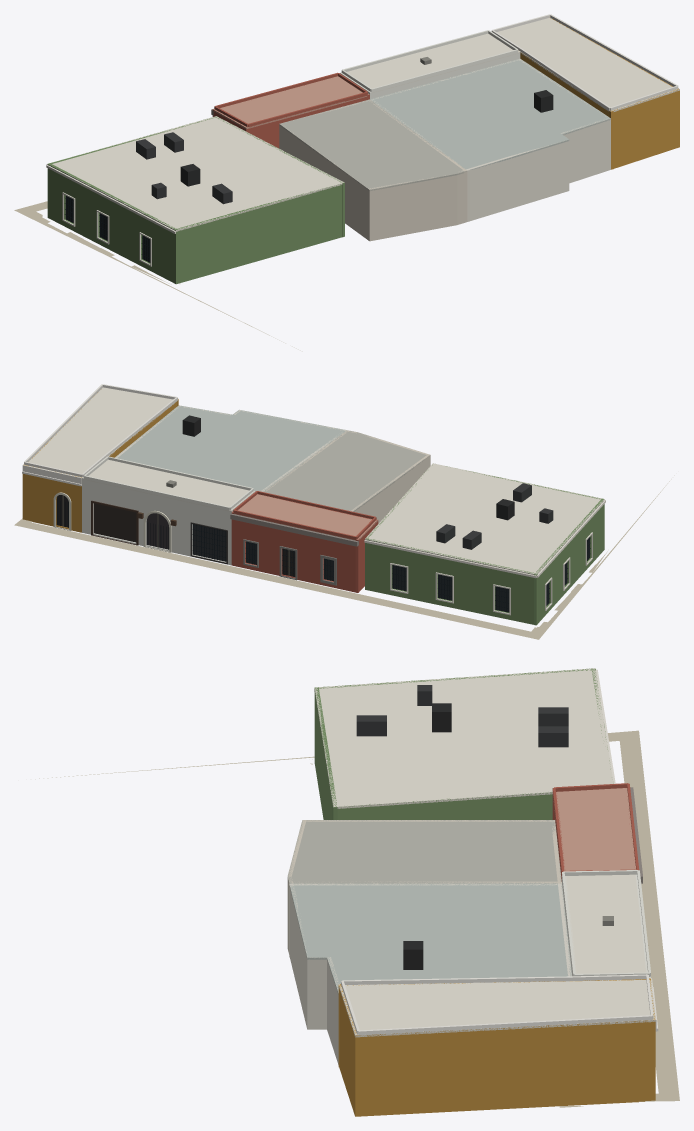
File: cuadra10-C21.glb
3 renders of one model, top to bottom at view 1: azimuth 30°, elevation 25°; view 2: azimuth 150°, elevation 25°; view 3: azimuth 270°, elevation 25°, orthographic. The views are drawn at different scales.
Parts seen in each view (by area): view 1: edificio; view 2: edificio; view 3: edificio.
Boxes of the visible parts, left/top/right/bottom form: edificio: left=14, top=14, right=679, bottom=351; edificio: left=14, top=384, right=674, bottom=639; edificio: left=35, top=668, right=679, bottom=1116.
Bounding box in the file's own units: 48.23 × 5.6 × 35.21.
